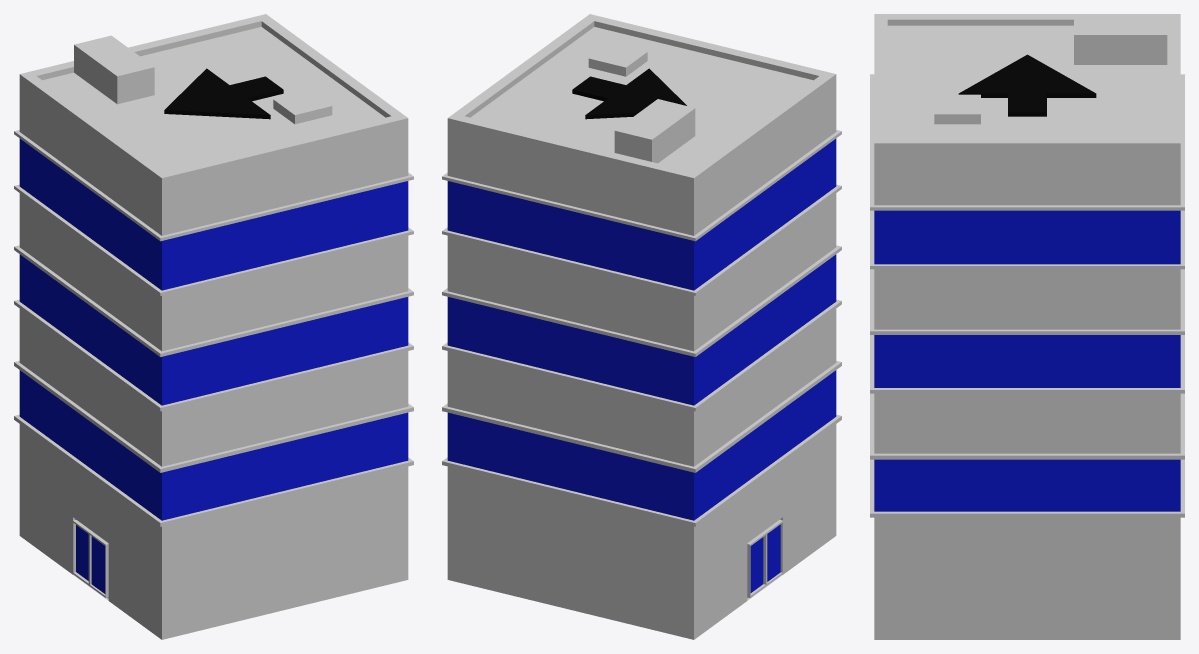
3 views of the same model, side by side, from view 1: azimuth 30°, elevation 25°; view 2: azimuth 150°, elevation 25°; view 3: azimuth 270°, elevation 25° (orthographic). The views are drawn at different scales.
Parts seen in each view (by area): view 1: Cube.013_Cube_R255,G255,B255, Cube.013_Cube_R46,G46,B46, Cube.013_Cube_SVGMat; view 2: Cube.013_Cube_R255,G255,B255, Cube.013_Cube_R46,G46,B46, Cube.013_Cube_SVGMat; view 3: Cube.013_Cube_R255,G255,B255, Cube.013_Cube_R46,G46,B46, Cube.013_Cube_SVGMat.
Part boxes in pixels (x1,y1,x2,y2): Cube.013_Cube_R255,G255,B255: (14, 14, 413, 639); Cube.013_Cube_R46,G46,B46: (19, 138, 408, 593); Cube.013_Cube_SVGMat: (164, 68, 283, 119); Cube.013_Cube_R255,G255,B255: (442, 14, 841, 639); Cube.013_Cube_R46,G46,B46: (447, 138, 836, 592); Cube.013_Cube_SVGMat: (572, 68, 686, 119); Cube.013_Cube_R255,G255,B255: (870, 14, 1184, 639); Cube.013_Cube_R46,G46,B46: (874, 210, 1180, 511); Cube.013_Cube_SVGMat: (958, 54, 1096, 116).
Size of the model in its own units: 0.2657 by 0.4846 by 0.2657.
